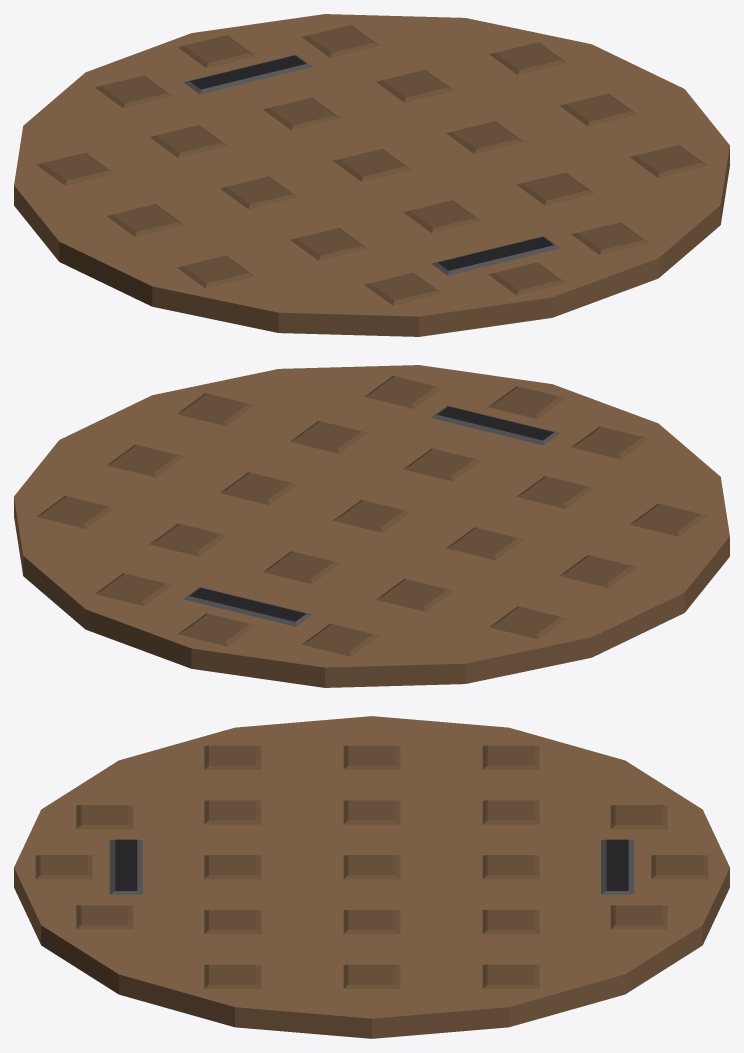
The model's file is SM_Street_Well_1.fbx.
The picture shows the model from 3 angles, top to bottom: view 1: azimuth 30°, elevation 25°; view 2: azimuth 150°, elevation 25°; view 3: azimuth 270°, elevation 25°; orthographic projection.
Visible parts, largest first — view 1: SM_Street_Well_1_LOD0; view 2: SM_Street_Well_1_LOD0; view 3: SM_Street_Well_1_LOD0.
Boxes of the visible parts, left/top/right/bottom form: SM_Street_Well_1_LOD0: left=14, top=14, right=729, bottom=336; SM_Street_Well_1_LOD0: left=14, top=365, right=729, bottom=687; SM_Street_Well_1_LOD0: left=14, top=716, right=729, bottom=1038.
Bounding box in the file's own units: 180 × 180 × 6.24.
Materials: 1 (1 with a texture image).
